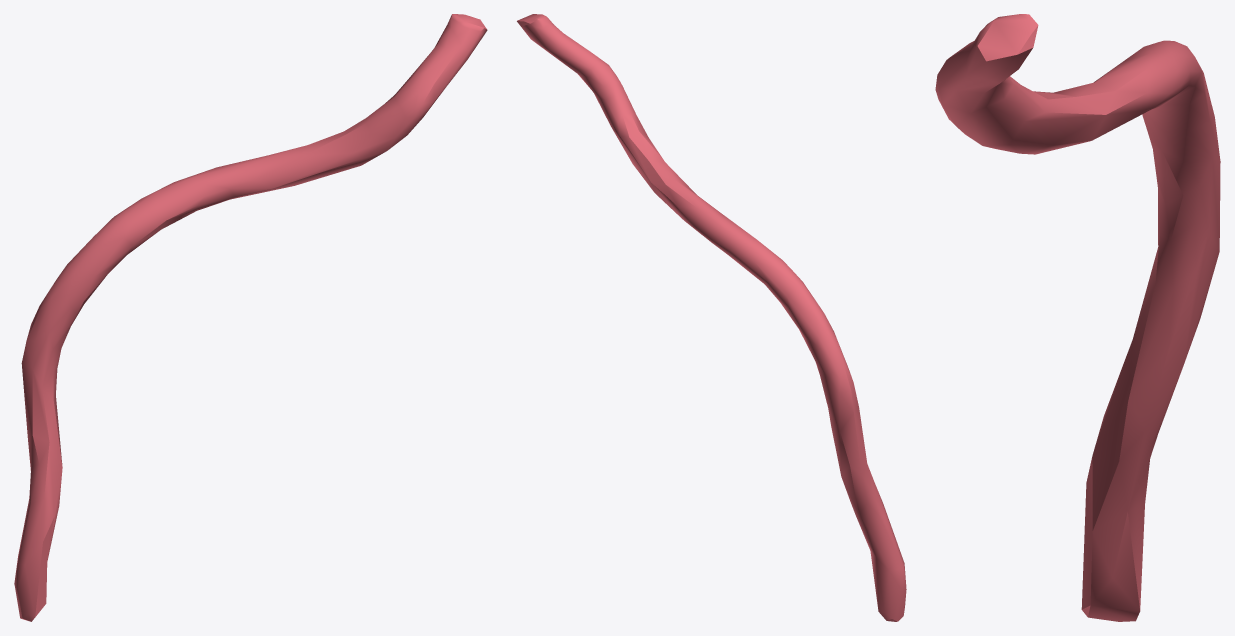
The model's file is fma14782_fj3409.glb.
3 views of the same model, side by side, from view 1: azimuth 30°, elevation 25°; view 2: azimuth 150°, elevation 25°; view 3: azimuth 270°, elevation 25° (orthographic). The views are drawn at different scales.
Visible parts, largest first — view 1: FMA14782_FJ3409; view 2: FMA14782_FJ3409; view 3: FMA14782_FJ3409.
Part boxes in pixels (x1,y1,x2,y2): FMA14782_FJ3409: [14, 14, 487, 621]; FMA14782_FJ3409: [517, 14, 906, 621]; FMA14782_FJ3409: [935, 14, 1220, 621].
Size of the model in its own units: 0.0375 by 0.0428 by 0.0113.
